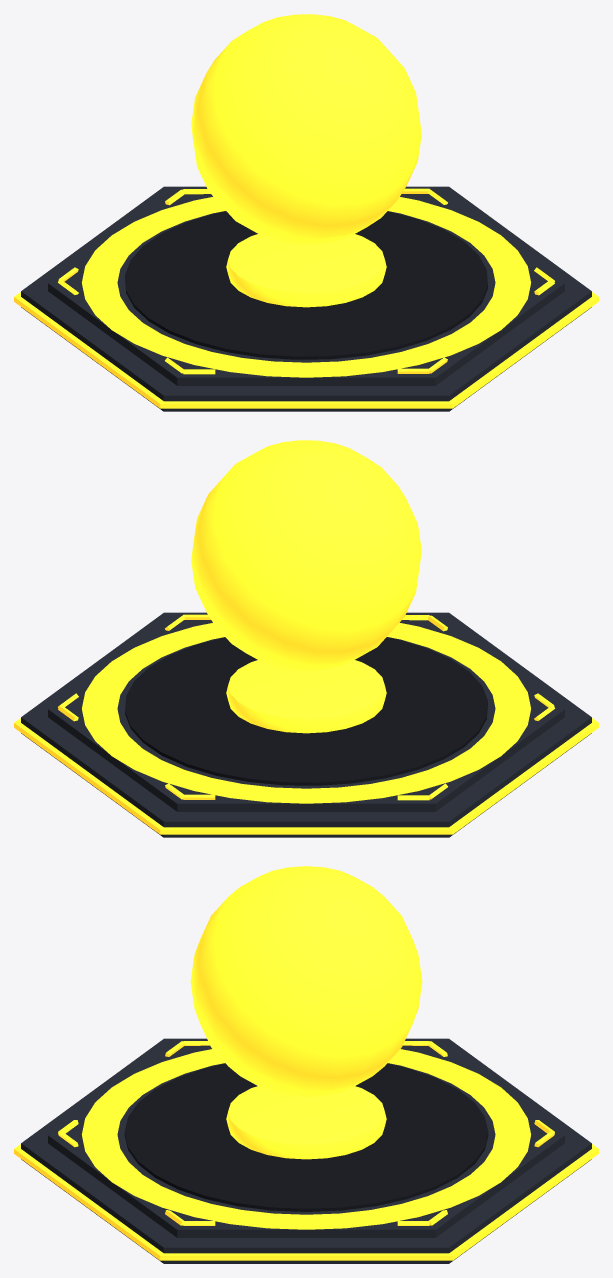
File: pads.glb
3 views of the same model, one above another, from view 1: azimuth 30°, elevation 25°; view 2: azimuth 150°, elevation 25°; view 3: azimuth 270°, elevation 25° (orthographic).
Visible parts, largest first — view 1: pad_big_base, pad_big_orb, pad_small_orb; view 2: pad_big_base, pad_big_orb, pad_small_orb; view 3: pad_big_base, pad_big_orb, pad_small_orb.
Boxes of the visible parts, x1,y1,x2,y2 form: pad_big_base: [14, 186, 598, 411]; pad_big_orb: [191, 14, 421, 244]; pad_small_orb: [226, 234, 386, 307]; pad_big_base: [14, 612, 598, 837]; pad_big_orb: [191, 440, 421, 670]; pad_small_orb: [226, 660, 386, 733]; pad_big_base: [14, 1038, 598, 1263]; pad_big_orb: [190, 866, 422, 1096]; pad_small_orb: [226, 1086, 386, 1159].
Size of the model in its own units: 2.84 by 1.75 by 3.28.
